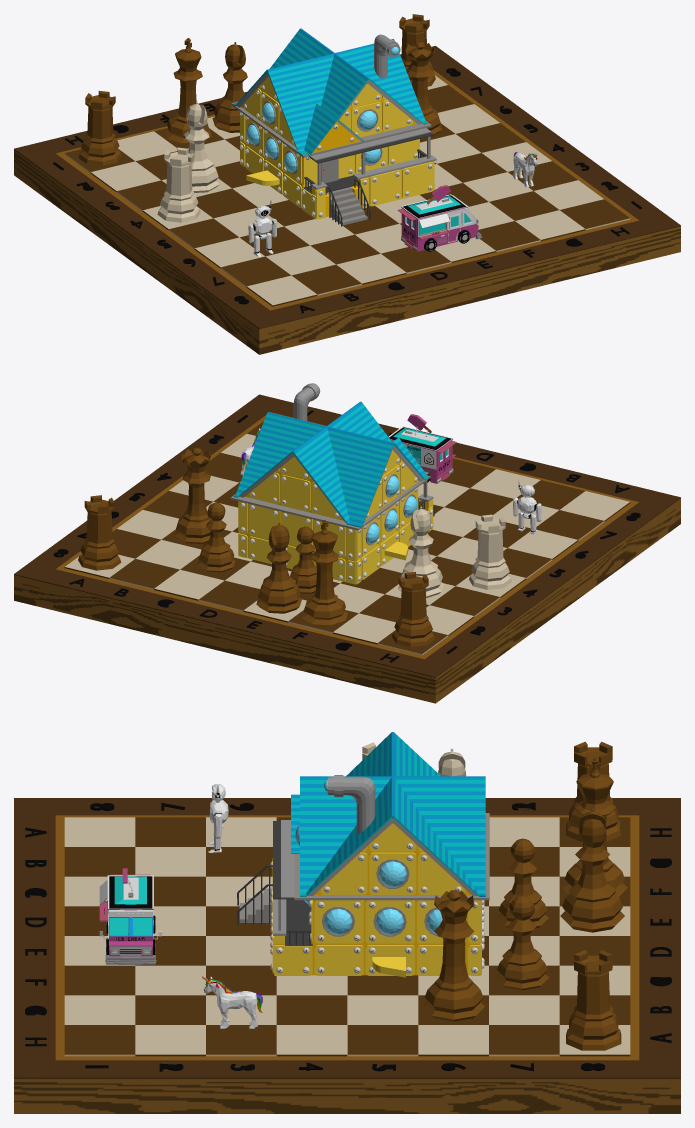
The picture shows the model from 3 angles, top to bottom: view 1: azimuth 30°, elevation 25°; view 2: azimuth 150°, elevation 25°; view 3: azimuth 270°, elevation 25°; orthographic projection. The views are drawn at different scales.
Visible parts, largest first — view 1: Cube.002, Cube.1366, VEHICLES_ICE_CREAM_TRUCK, OBJRANDOM_PLATZEEBOT, ANIMAL_UNICORNIO; view 2: Cube.002, Cube.1366, VEHICLES_ICE_CREAM_TRUCK, OBJRANDOM_PLATZEEBOT; view 3: Cube.002, Cube.1366, VEHICLES_ICE_CREAM_TRUCK, ANIMAL_UNICORNIO, OBJRANDOM_PLATZEEBOT.
Boxes of the visible parts, <box> form: Cube.002: <box>14,14,680,354</box>; Cube.1366: <box>231,28,436,226</box>; VEHICLES_ICE_CREAM_TRUCK: <box>397,185,482,251</box>; OBJRANDOM_PLATZEEBOT: <box>248,200,277,256</box>; ANIMAL_UNICORNIO: <box>512,152,537,187</box>; Cube.002: <box>14,394,680,703</box>; Cube.1366: <box>230,383,434,584</box>; VEHICLES_ICE_CREAM_TRUCK: <box>388,414,456,483</box>; OBJRANDOM_PLATZEEBOT: <box>513,479,541,534</box>; Cube.002: <box>14,741,680,1113</box>; Cube.1366: <box>237,732,489,977</box>; VEHICLES_ICE_CREAM_TRUCK: <box>99,868,161,964</box>; ANIMAL_UNICORNIO: <box>202,976,262,1028</box>; OBJRANDOM_PLATZEEBOT: <box>208,783,228,852</box>.
Size of the model in its own units: 3981 by 1549 by 4012.
Materials: 51 (2 with a texture image).
